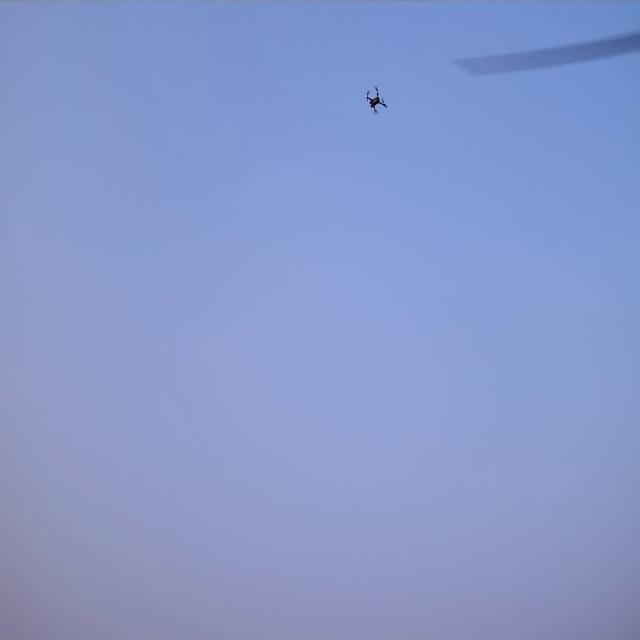UAV: (364, 84, 388, 117)
